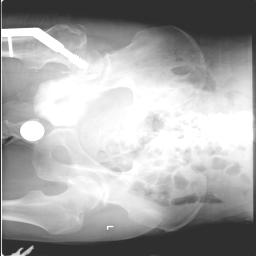cancer: (36, 81, 96, 126)
